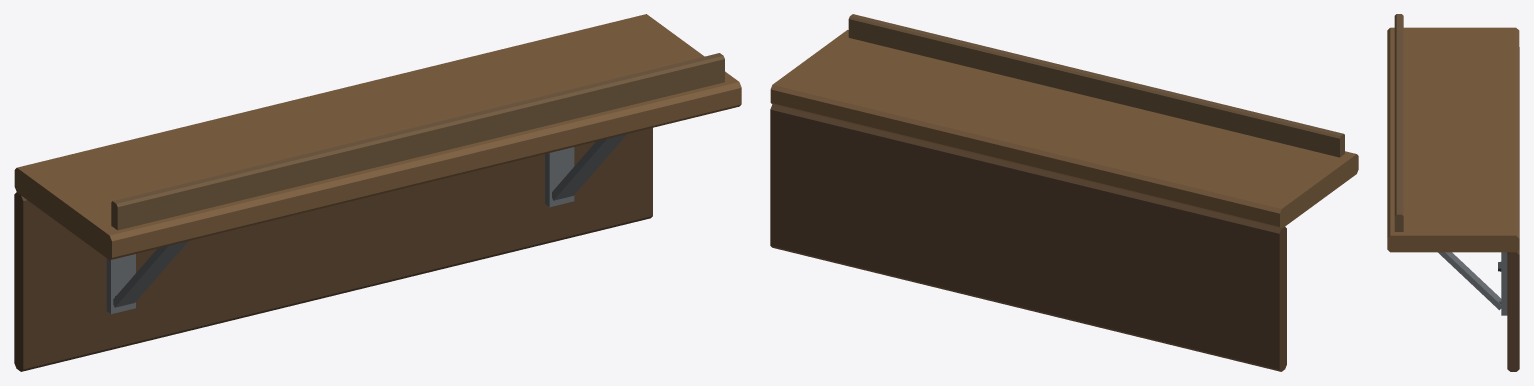
Rendered from SM_LPD_Furn_ShelfWall_01.fbx.
3 views of the same model, side by side, from view 1: azimuth 30°, elevation 25°; view 2: azimuth 150°, elevation 25°; view 3: azimuth 270°, elevation 25° (orthographic). The views are drawn at different scales.
Parts seen in each view (by area): view 1: SM_LPD_Furn_ShelfWall_01; view 2: SM_LPD_Furn_ShelfWall_01; view 3: SM_LPD_Furn_ShelfWall_01.
Part boxes in pixels (bbox=[...]): SM_LPD_Furn_ShelfWall_01: bbox=[14, 14, 741, 371]; SM_LPD_Furn_ShelfWall_01: bbox=[770, 14, 1358, 371]; SM_LPD_Furn_ShelfWall_01: bbox=[1387, 14, 1519, 371].
Size of the model in its own units: 1.12 by 0.3855 by 0.301.
